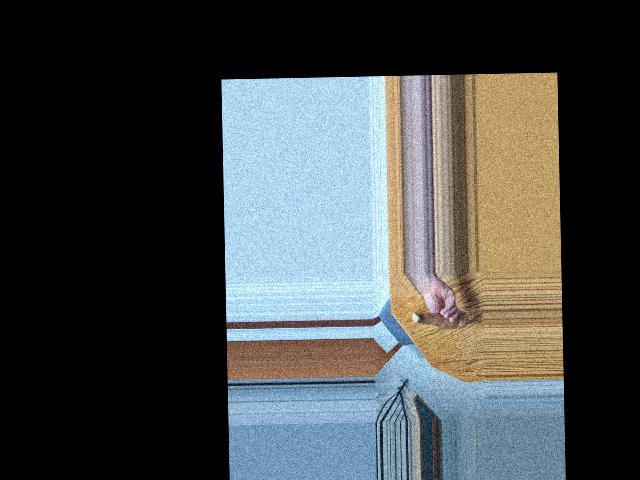sweet_potato: (413, 306, 469, 331)
